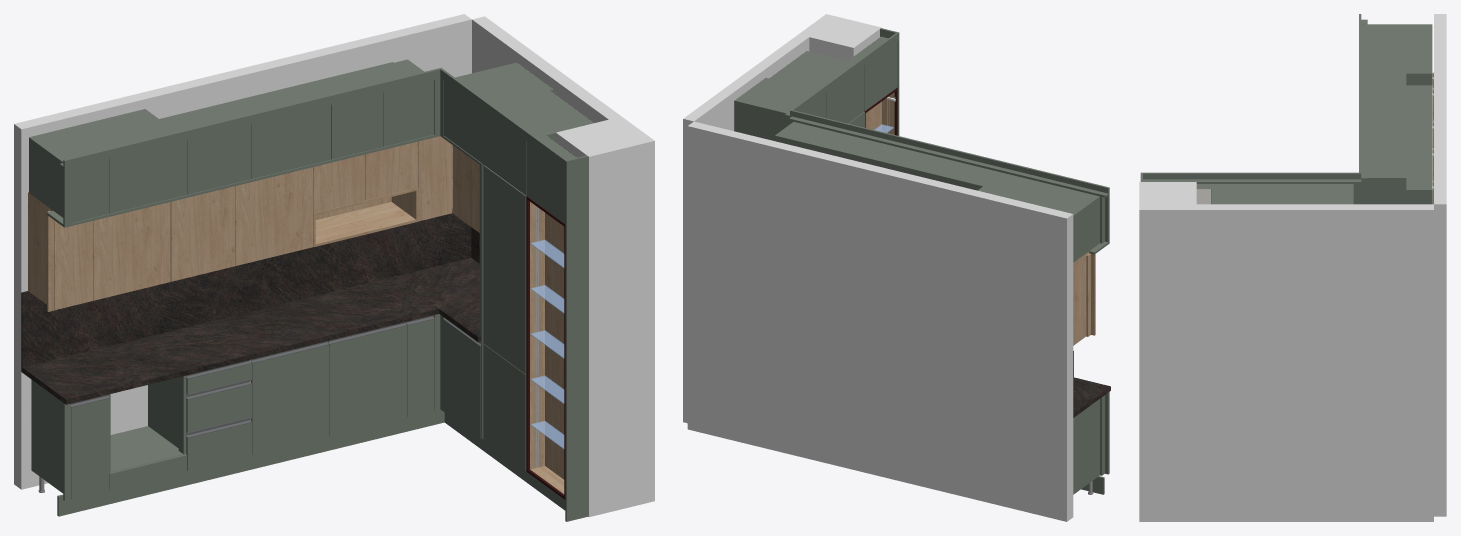
File: KONYHA.glb
3 renders of one model, left to right at view 1: azimuth 30°, elevation 25°; view 2: azimuth 150°, elevation 25°; view 3: azimuth 270°, elevation 25°, orthographic. The views are drawn at different scales.
Parts seen in each view (by area): view 1: 3DGeom-2, 3DGeom-657, 3DGeom-1, 3DGeom-201, 3DGeom-659, 3DGeom-175, 3DGeom-35, 3DGeom-241, 3DGeom-280, 3DGeom-337, 3DGeom-301, 3DGeom-210 (+45 smaller); view 2: 3DGeom-1, 3DGeom-2, 3DGeom-5, 3DGeom-555, 3DGeom-521, 3DGeom-497, 3DGeom-540, 3DGeom-516, 3DGeom-538, 3DGeom-623, 3DGeom-581, 3DGeom-642 (+9 smaller); view 3: 3DGeom-2, 3DGeom-1, 3DGeom-623, 3DGeom-555, 3DGeom-521, 3DGeom-552, 3DGeom-682, 3DGeom-581, 3DGeom-538, 3DGeom-574, 3DGeom-601, 3DGeom-640 (+7 smaller).
Boxes of the visible parts, left/top/right/bottom form: 3DGeom-2: left=472, top=16, right=654, bottom=517; 3DGeom-657: left=21, top=211, right=471, bottom=367; 3DGeom-1: left=14, top=14, right=471, bottom=489; 3DGeom-201: left=21, top=276, right=439, bottom=404; 3DGeom-659: left=565, top=155, right=588, bottom=521; 3DGeom-175: left=484, top=166, right=525, bottom=373; 3DGeom-35: left=329, top=326, right=406, bottom=435; 3DGeom-241: left=252, top=345, right=329, bottom=454; 3DGeom-280: left=93, top=202, right=170, bottom=300; 3DGeom-337: left=235, top=167, right=312, bottom=265; 3DGeom-301: left=171, top=186, right=235, bottom=281; 3DGeom-210: left=545, top=213, right=564, bottom=479; 3DGeom-1: left=687, top=121, right=1073, bottom=521; 3DGeom-2: left=683, top=14, right=881, bottom=423; 3DGeom-5: left=1073, top=399, right=1099, bottom=492; 3DGeom-555: left=776, top=122, right=877, bottom=158; 3DGeom-521: left=770, top=51, right=853, bottom=89; 3DGeom-497: left=864, top=41, right=897, bottom=110; 3DGeom-540: left=734, top=100, right=787, bottom=140; 3DGeom-516: left=827, top=66, right=864, bottom=123; 3DGeom-538: left=736, top=78, right=815, bottom=112; 3DGeom-623: left=980, top=173, right=1064, bottom=205; 3DGeom-581: left=863, top=143, right=945, bottom=174; 3DGeom-642: left=1073, top=196, right=1099, bottom=262; 3DGeom-2: left=1139, top=182, right=1433, bottom=521; 3DGeom-1: left=1434, top=14, right=1446, bottom=516; 3DGeom-623: left=1367, top=41, right=1432, bottom=72; 3DGeom-555: left=1367, top=135, right=1406, bottom=176; 3DGeom-521: left=1213, top=184, right=1286, bottom=204; 3DGeom-552: left=1367, top=177, right=1432, bottom=204; 3DGeom-682: left=1143, top=173, right=1361, bottom=179; 3DGeom-581: left=1367, top=101, right=1406, bottom=133; 3DGeom-538: left=1291, top=184, right=1351, bottom=204; 3DGeom-574: left=1406, top=147, right=1432, bottom=188; 3DGeom-601: left=1367, top=74, right=1406, bottom=99; 3DGeom-640: left=1367, top=25, right=1432, bottom=39.
Bounding box in the file's own units: 3.59 × 2.66 × 2.38.
31 materials, 7 textured.
